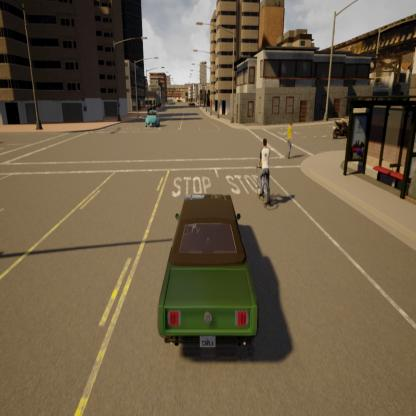Cars: (150, 177, 260, 372), (142, 107, 163, 129)
Pedestrian: (283, 116, 297, 162)
